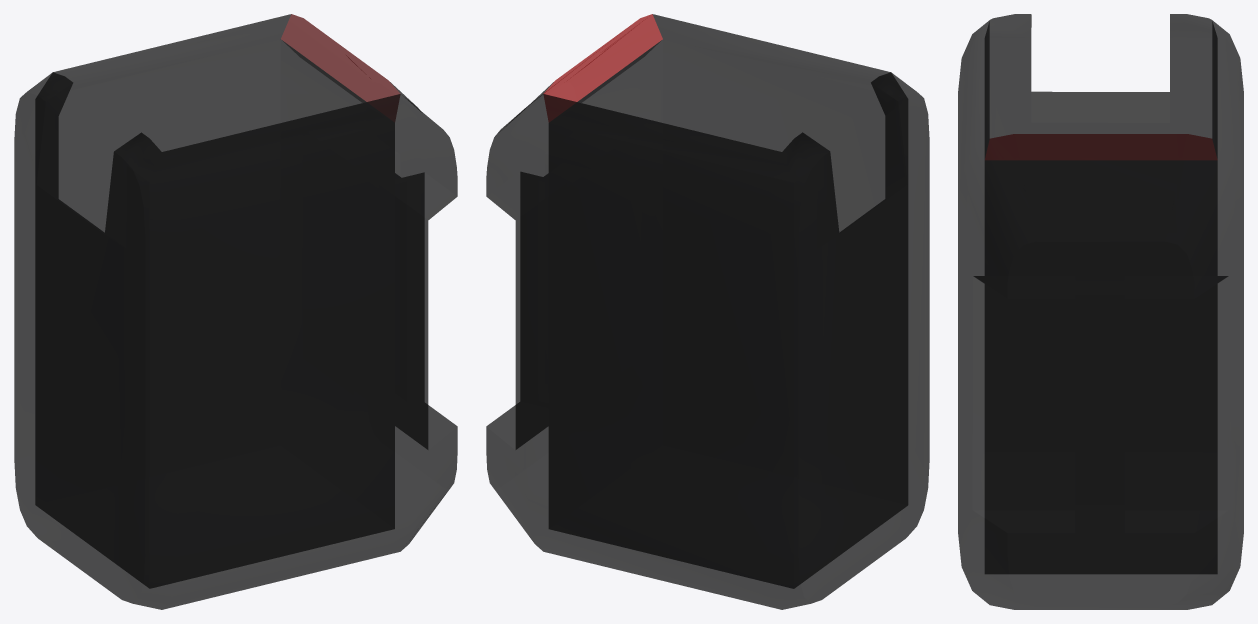
The model's file is EmbaseArreglado_v2.fbx.
3 views of the same model, side by side, from view 1: azimuth 30°, elevation 25°; view 2: azimuth 150°, elevation 25°; view 3: azimuth 270°, elevation 25° (orthographic).
Visible parts, largest first — view 1: Box001; view 2: Box001; view 3: Box001.
Boxes of the visible parts, x1=… form: Box001: x1=14, y1=14, x2=457, y2=609; Box001: x1=486, y1=14, x2=929, y2=609; Box001: x1=958, y1=14, x2=1243, y2=609.
Size of the model in its own units: 8.38 by 10.96 by 5.96.
